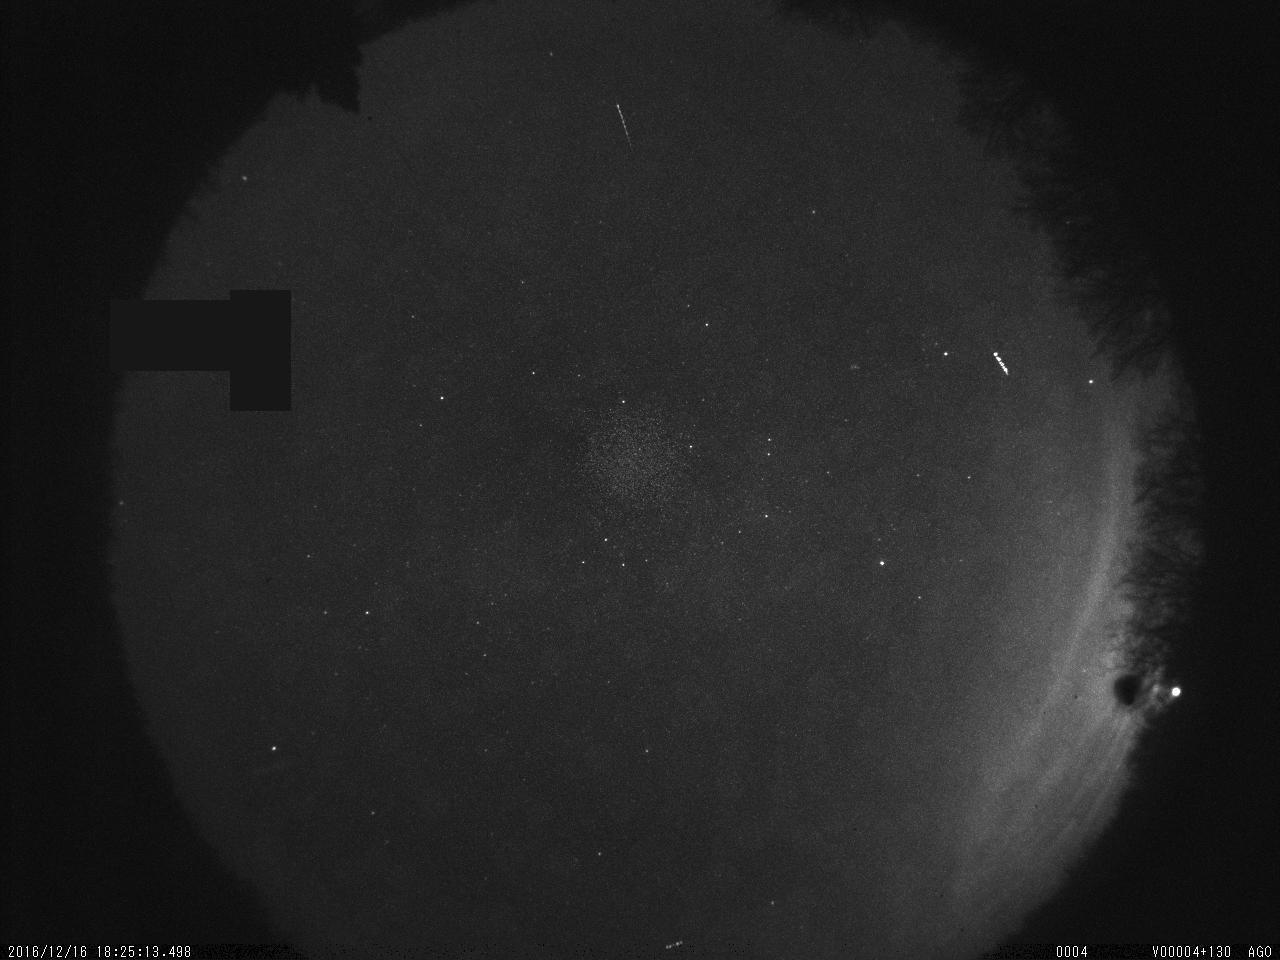meteor: (609, 95, 636, 153)
satelite: (984, 346, 1019, 383)
